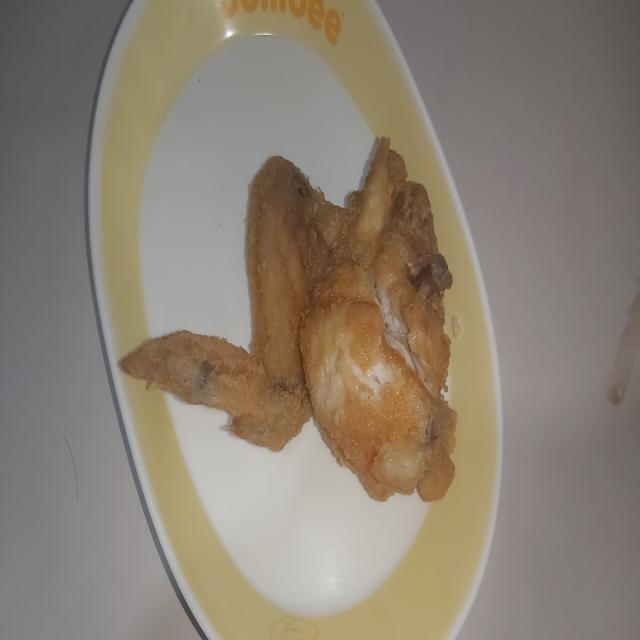Chicken -Fried Chicken-: (110, 121, 463, 523)
